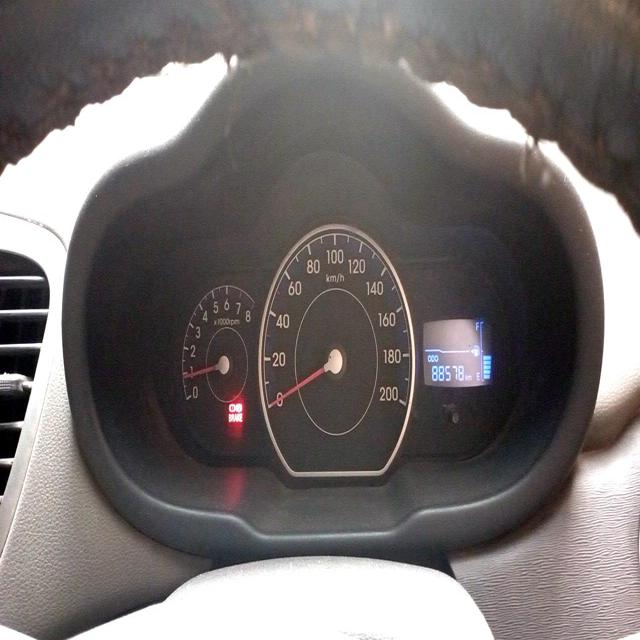odometer: (430, 363, 465, 384)
